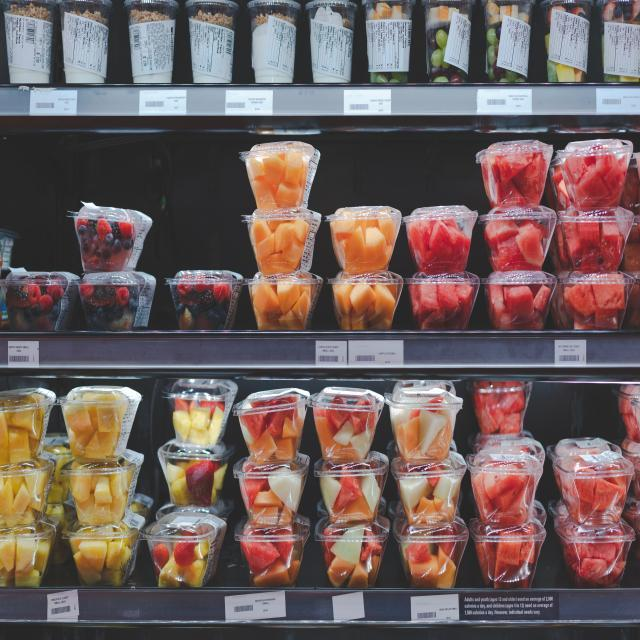Imprecise: (461, 371, 555, 590), (147, 373, 234, 590)
